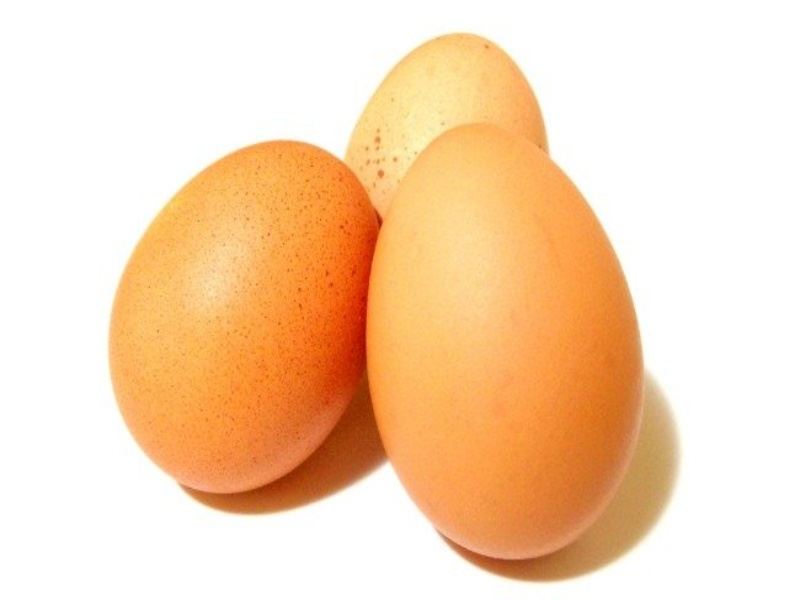Huevo: (365, 122, 645, 561), (109, 139, 379, 493), (343, 33, 550, 224)
